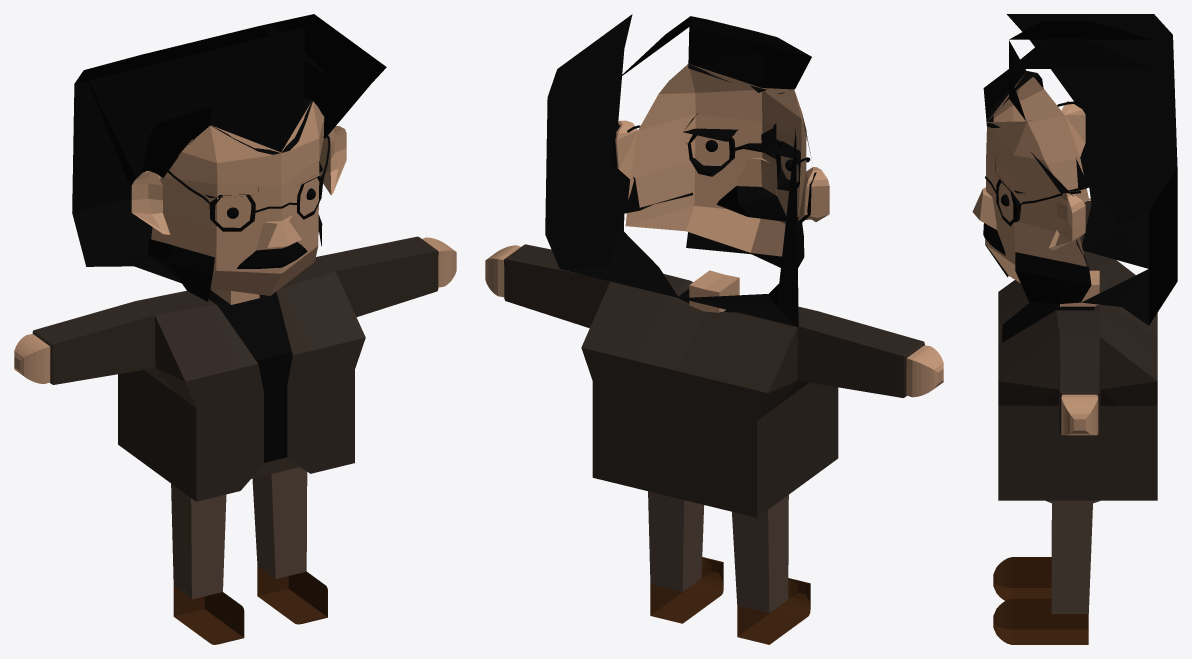
The model's file is Bearded Man.fbx.
The picture shows the model from 3 angles, left to right: view 1: azimuth 30°, elevation 25°; view 2: azimuth 150°, elevation 25°; view 3: azimuth 270°, elevation 25°; orthographic projection. The views are drawn at different scales.
Visible parts, largest first — view 1: blazzer, hair, face, jeans, shirt, shoes, limbs, eyeglasses; view 2: blazzer, hair, face, jeans, shoes, limbs, eyeglasses; view 3: hair, blazzer, face, shoes, jeans, limbs, shirt, eyeglasses.
Part boxes in pixels (x1,y1,x2,y2): blazzer: [32, 236, 438, 501]; hair: [72, 14, 386, 301]; face: [131, 101, 346, 295]; jeans: [171, 457, 307, 599]; shirt: [208, 290, 292, 462]; shoes: [173, 566, 327, 644]; limbs: [14, 237, 456, 383]; eyeglasses: [165, 135, 329, 231]; blazzer: [504, 244, 924, 517]; hair: [545, 14, 816, 327]; face: [615, 64, 829, 256]; jeans: [648, 491, 788, 613]; shoes: [650, 557, 810, 644]; limbs: [485, 245, 943, 397]; eyeglasses: [627, 125, 810, 190]; hair: [983, 14, 1177, 325]; blazzer: [998, 201, 1157, 500]; face: [972, 74, 1088, 283]; shoes: [993, 557, 1088, 644]; jeans: [1046, 500, 1100, 613]; limbs: [1060, 198, 1099, 435]; shirt: [1002, 302, 1095, 342]; eyeglasses: [985, 101, 1080, 226].
Bounding box in the file's own units: 208 × 259 × 83.15.
